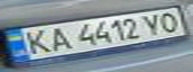1: (109, 17, 127, 43)
2: (121, 16, 145, 40)
4: (72, 20, 96, 47), (93, 19, 112, 45)
A: (42, 25, 75, 52)
K: (15, 27, 54, 56)
O: (154, 9, 184, 34)
Y: (139, 11, 166, 35)
